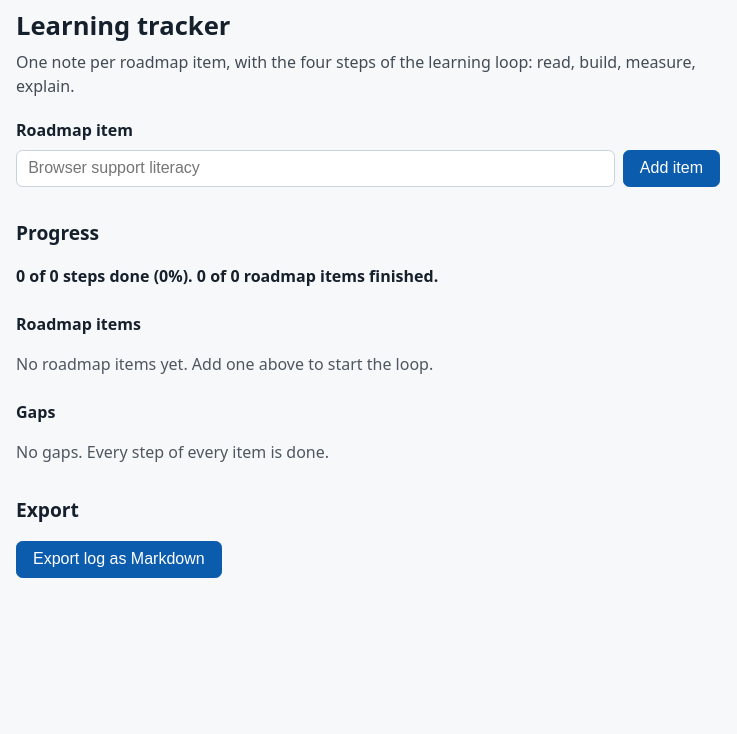
Test: the dashboard in the browser › shows an empty log and then the progress of the item the developer added
The width and height of the screenshot is (737, 734).
Expected: the text "No roadmap items yet. Add one above to start the loop." is shown, x1=16 y1=353 x2=433 y2=375
Type "The learning loop" into the field labelled "Roadmap item".
click(315, 168); type("The learning loop")  # box x1=16 y1=150 x2=615 y2=187
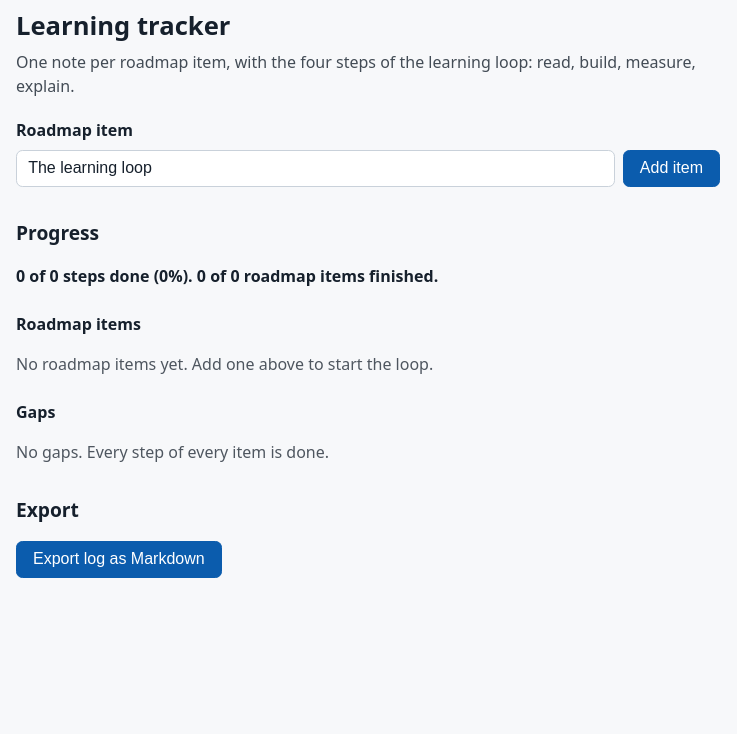
Click the button "Add item".
click(671, 168)  # box x1=623 y1=150 x2=720 y2=187
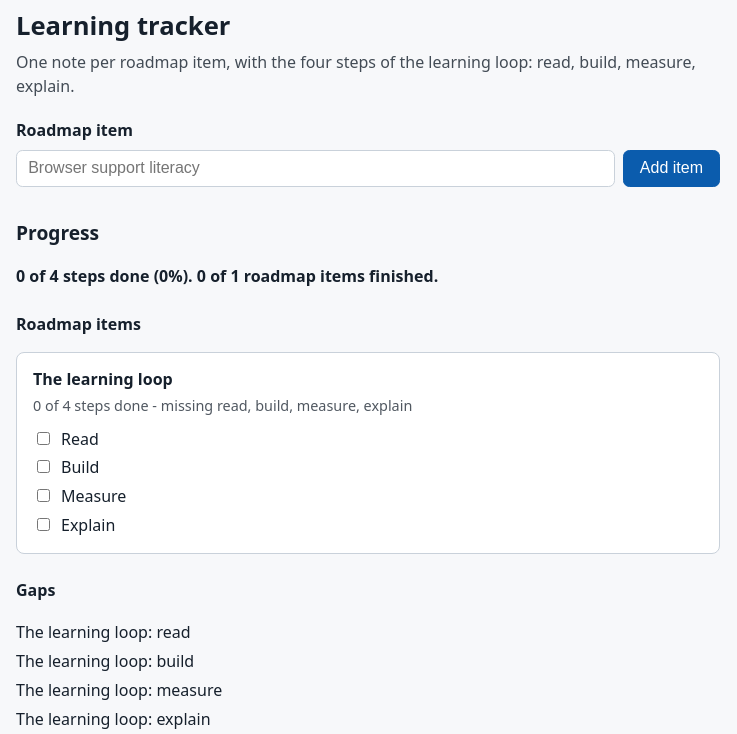
Now the heading "The learning loop" is shown, box x1=33 y1=368 x2=173 y2=390
Now the text "0 of 4 steps done (0%). 0 of 1 roadmap items finished." is shown, box x1=16 y1=265 x2=438 y2=287
